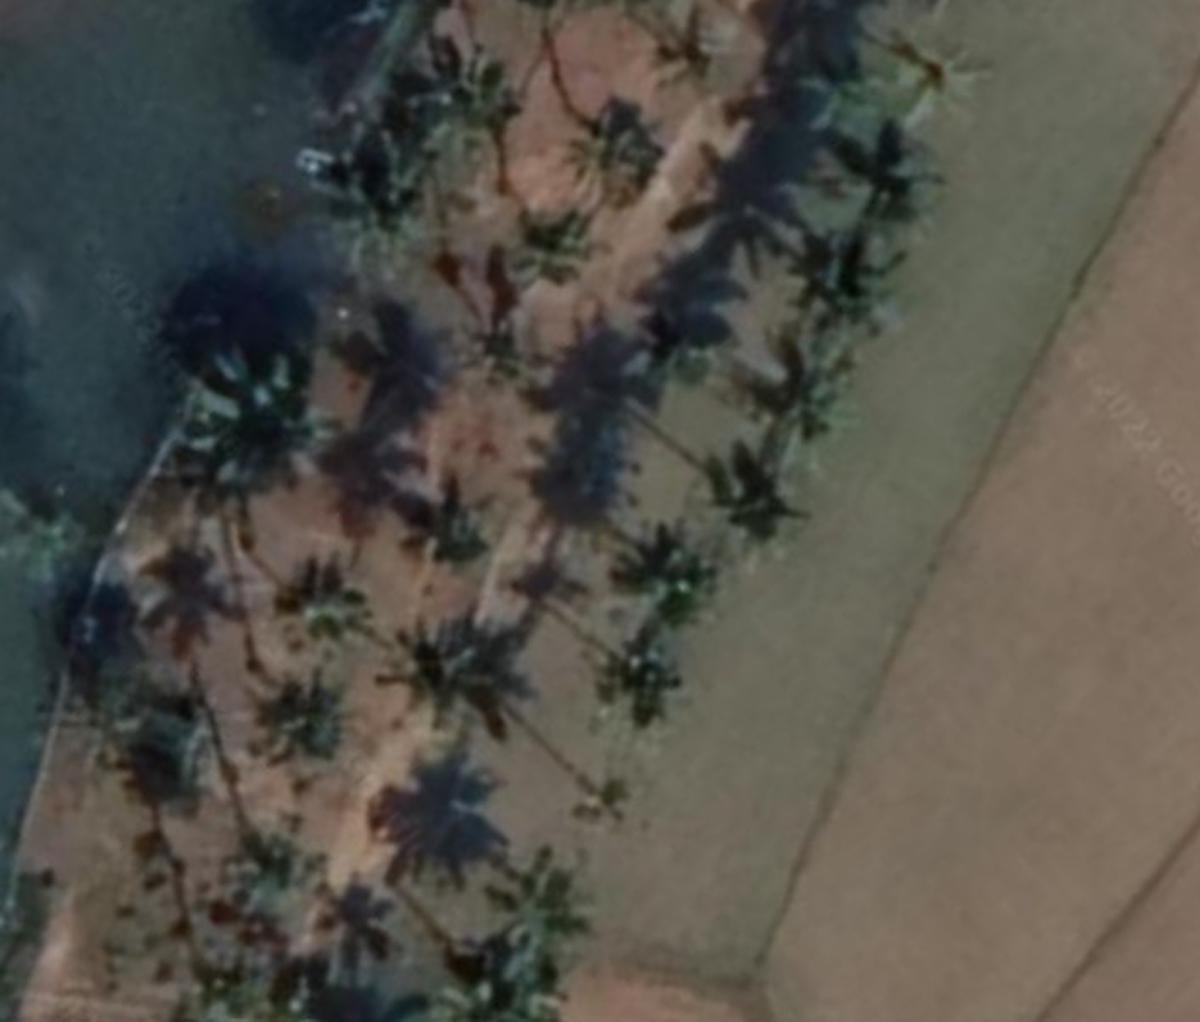coconut: (176, 361, 347, 504), (252, 665, 364, 794), (400, 460, 521, 578), (380, 609, 490, 736), (264, 553, 390, 662), (493, 839, 612, 954), (213, 816, 330, 925), (757, 351, 880, 453), (806, 234, 914, 349), (144, 533, 268, 634), (614, 307, 729, 412), (458, 926, 580, 1022), (843, 122, 955, 217), (573, 88, 667, 200), (466, 302, 578, 395), (500, 208, 609, 295), (605, 636, 694, 735), (724, 460, 809, 563), (634, 536, 728, 628)
